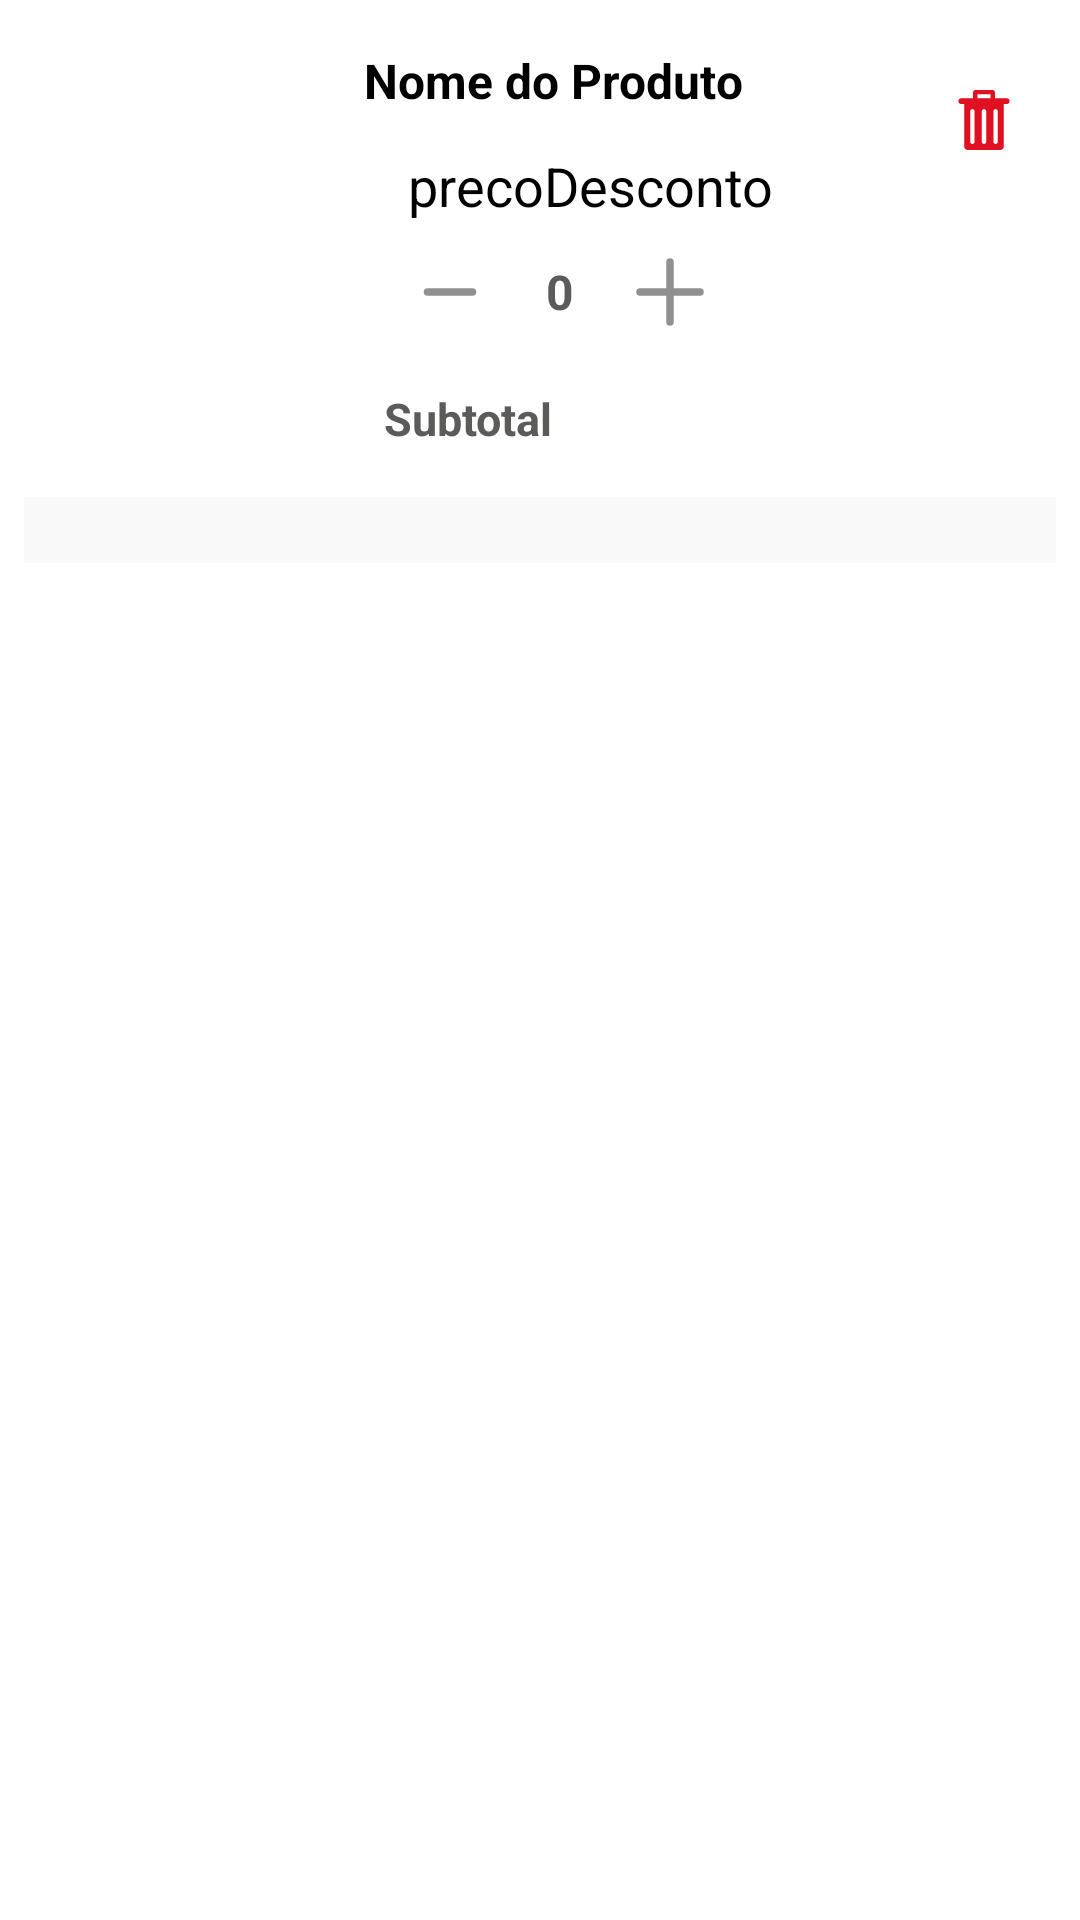

Where icons sit on this 1080x1920 app screen, as box(x1, y1, x2, y2):
Incrementar: box(636, 258, 704, 326)
trashcanicon: box(958, 90, 1010, 150)
